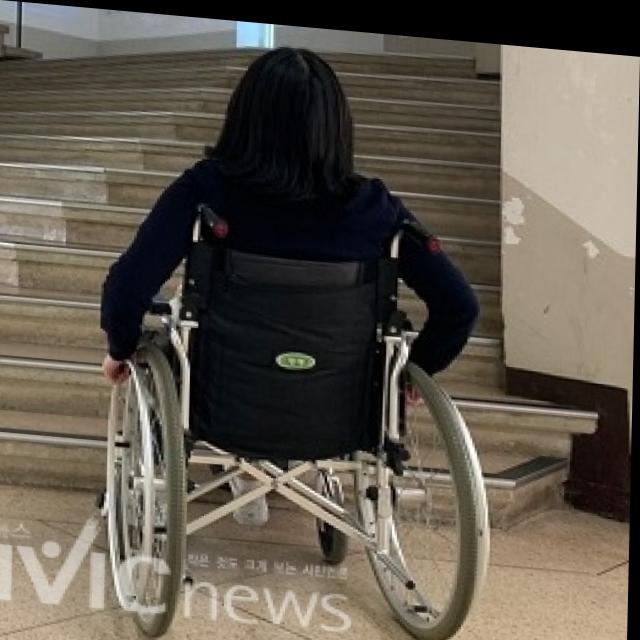wheelchair: (91, 31, 504, 640)
